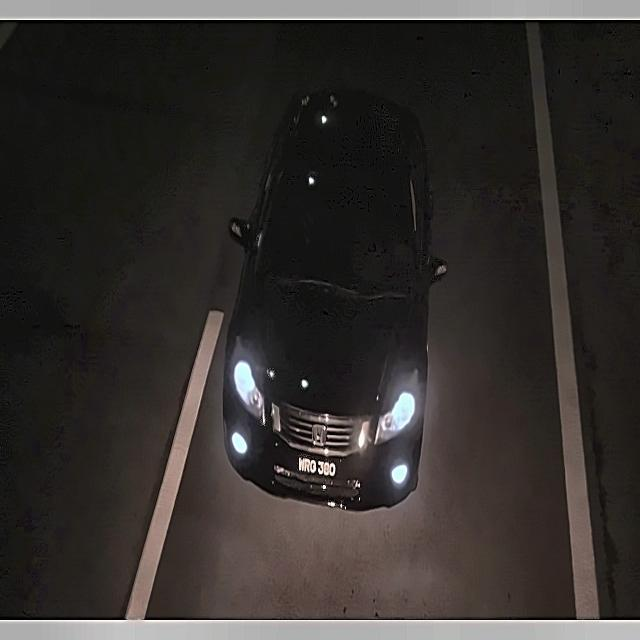car: (293, 452, 345, 488)
